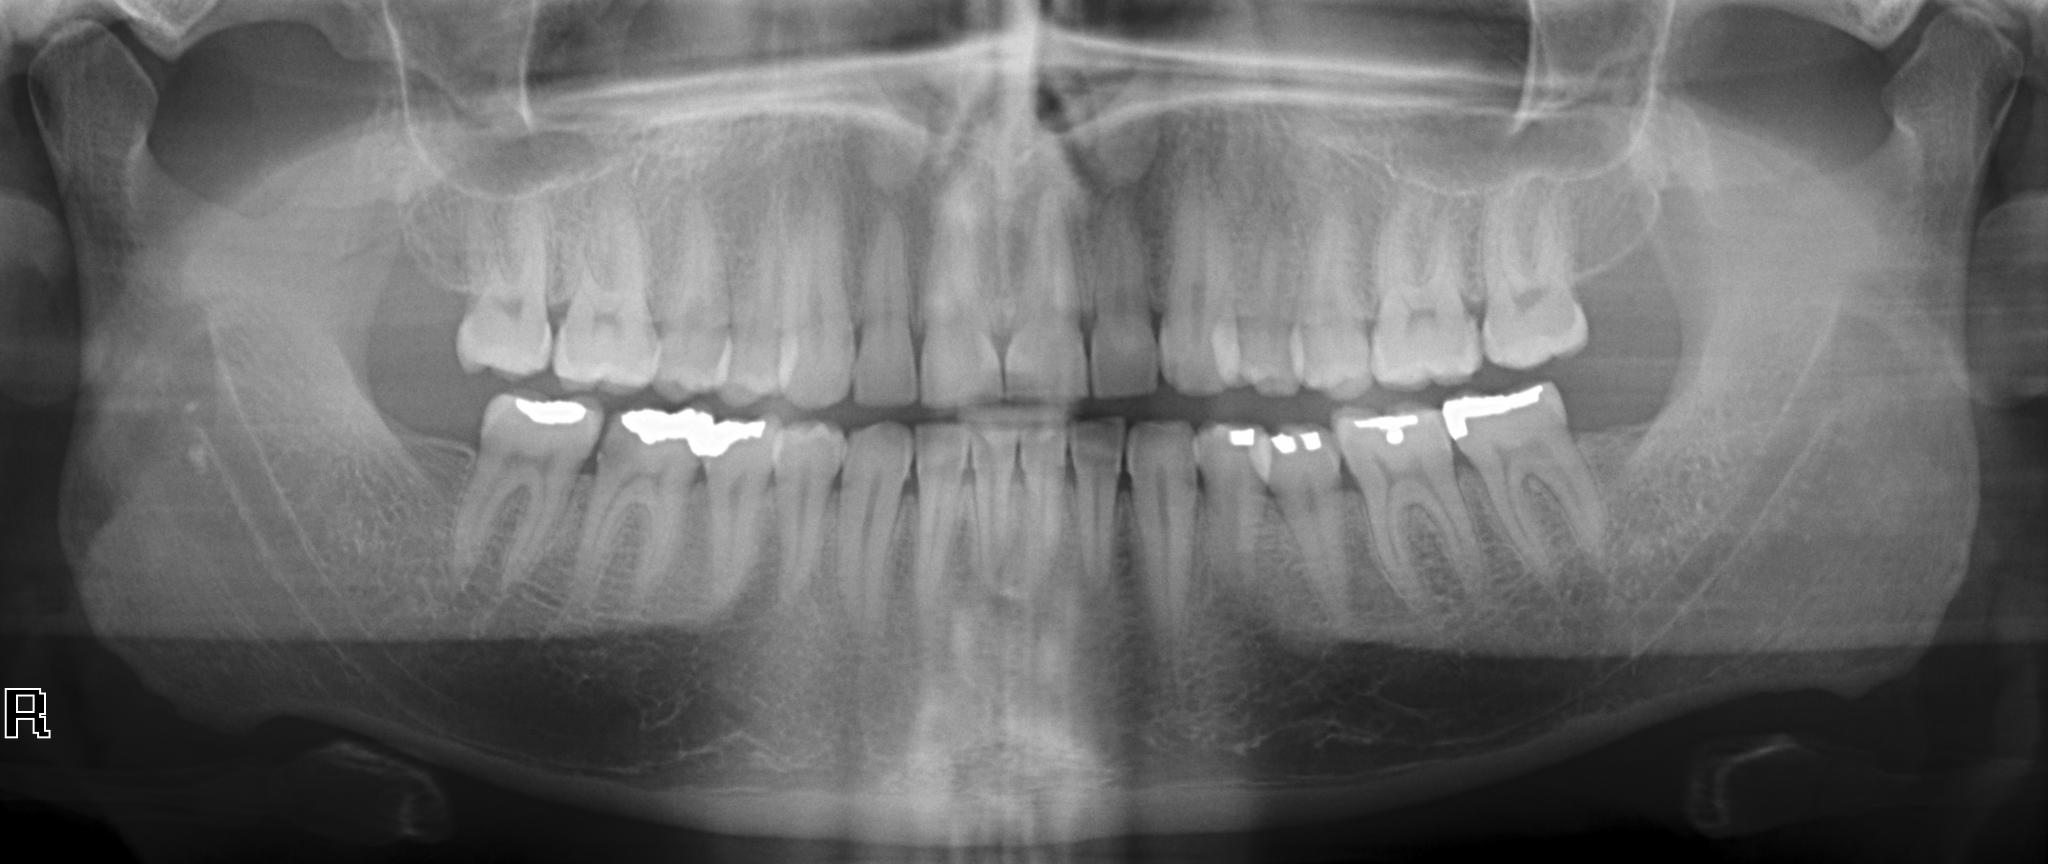Fillings: (1446, 381, 1605, 577), (448, 393, 598, 587), (1251, 420, 1351, 607), (695, 411, 784, 603)
